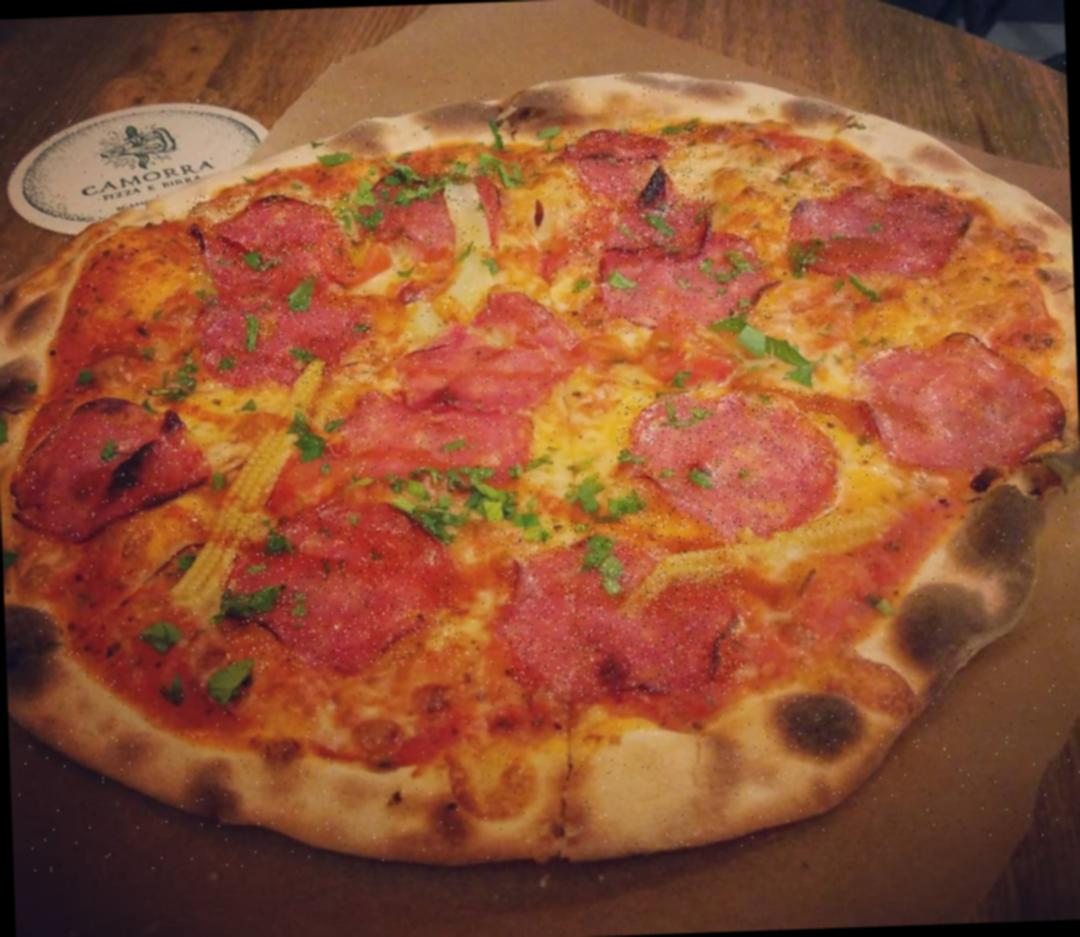Pepperoni: (499, 518, 749, 699), (222, 506, 461, 672), (616, 386, 844, 542), (850, 329, 1060, 477), (8, 397, 209, 538), (312, 384, 534, 489), (576, 228, 772, 333), (398, 290, 562, 414), (565, 126, 712, 254), (781, 178, 964, 276), (201, 290, 377, 388), (188, 190, 356, 284), (364, 162, 506, 253)
Pizza: (0, 49, 1080, 873)
